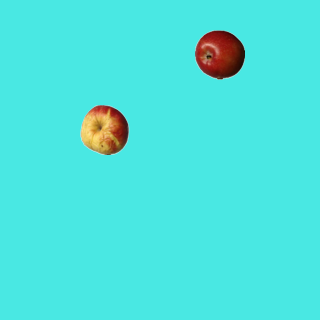Apple Braeburn: (194, 29, 244, 79)
Apple Red Yellow 1: (79, 104, 129, 154)
